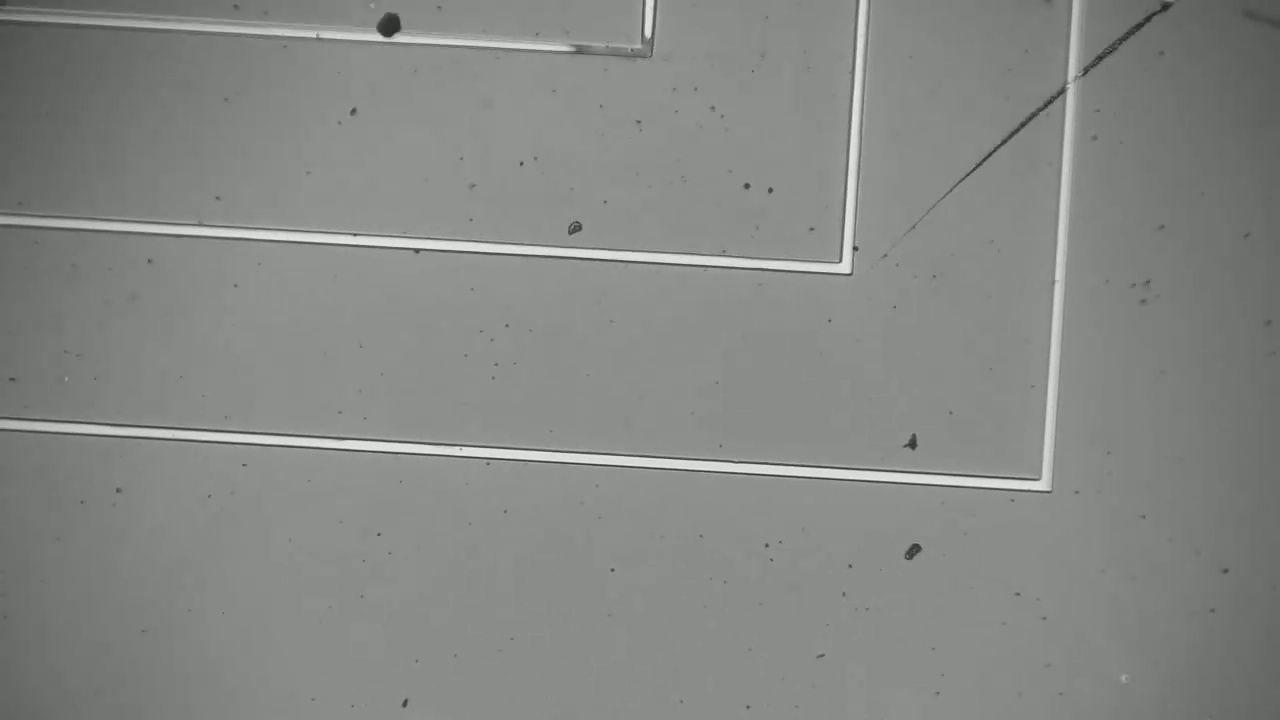gray_line: (550, 35, 670, 66), (629, 24, 660, 73)
scratch: (882, 1, 1174, 252)
stains_enbedded: (355, 4, 420, 63)
